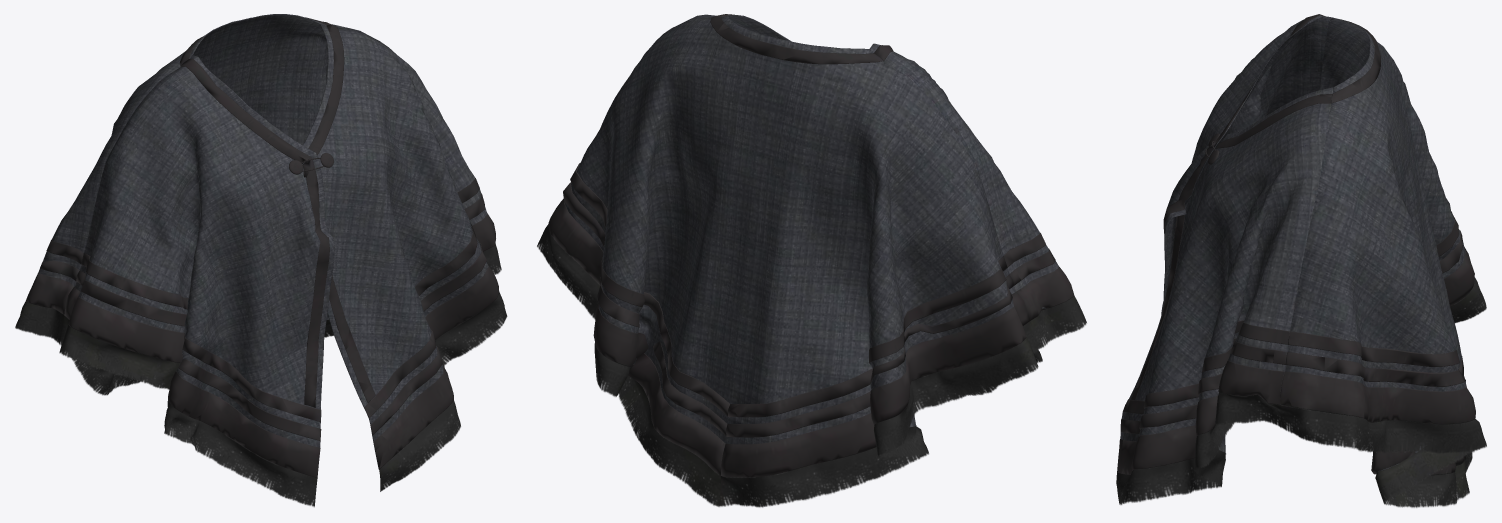
Rendered from cape.glb.
3 views of the same model, side by side, from view 1: azimuth 30°, elevation 25°; view 2: azimuth 150°, elevation 25°; view 3: azimuth 270°, elevation 25° (orthographic). The views are drawn at different scales.
Parts seen in each view (by area): view 1: 03_Cape_03_Cape_0; view 2: 03_Cape_03_Cape_0; view 3: 03_Cape_03_Cape_0.
Part boxes in pixels (left/top/right/bottom): 03_Cape_03_Cape_0: left=15, top=14, right=507, bottom=507; 03_Cape_03_Cape_0: left=537, top=14, right=1086, bottom=507; 03_Cape_03_Cape_0: left=1116, top=14, right=1486, bottom=507.
Bounding box in the file's own units: 0.8632 × 0.7183 × 0.5439.
Materials: 1 (1 with a texture image).
